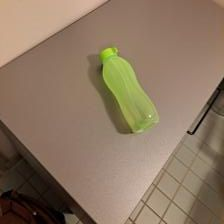bottle: (90, 43, 162, 136)
